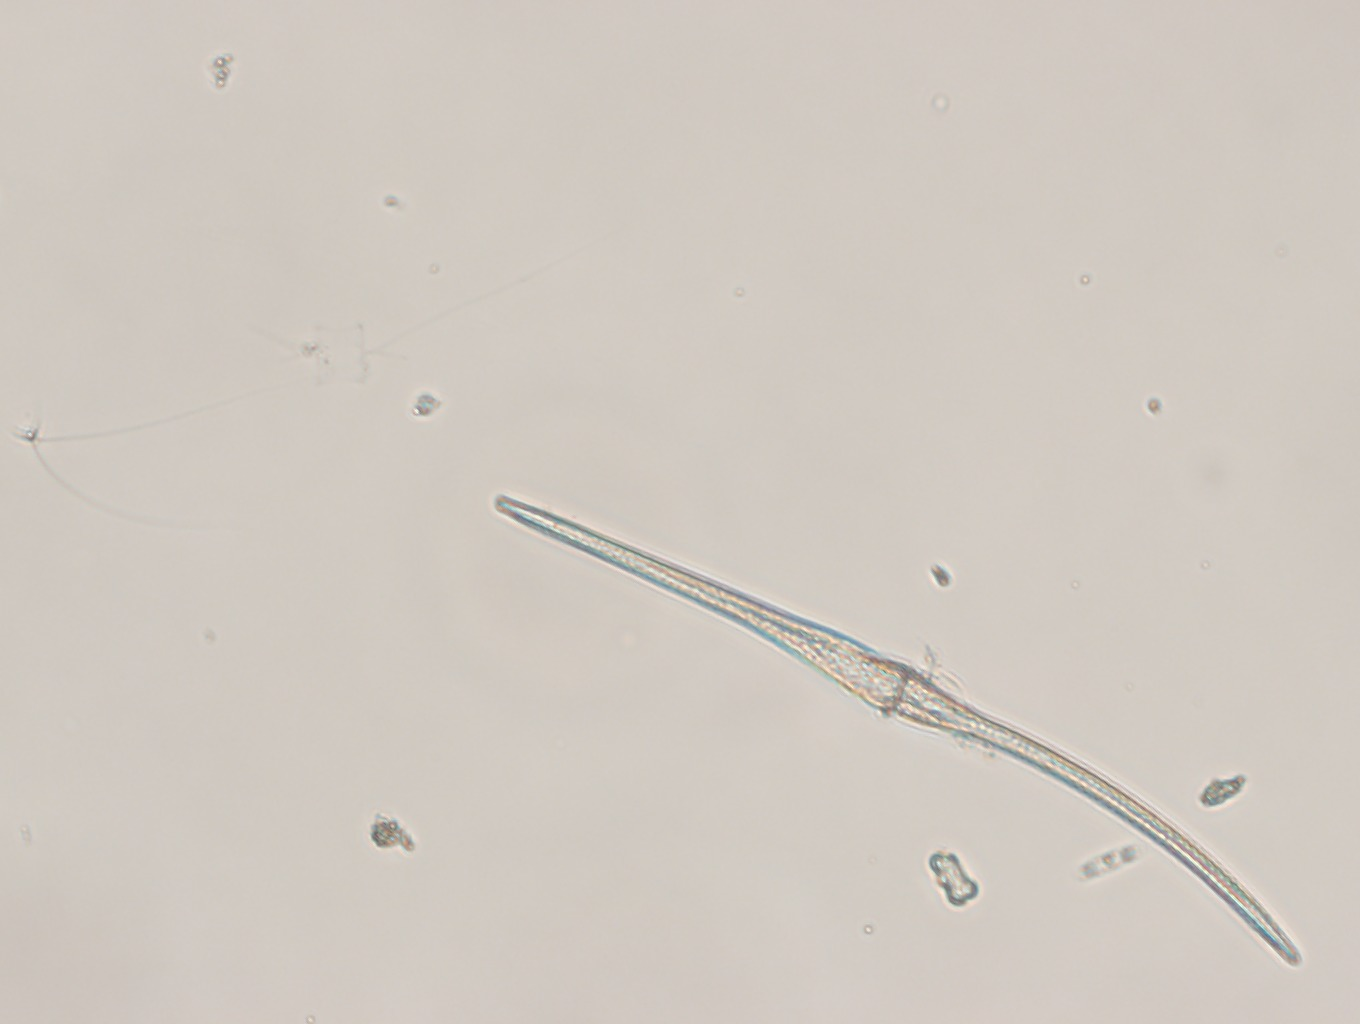ceratium fusus: (485, 490, 1315, 975)
